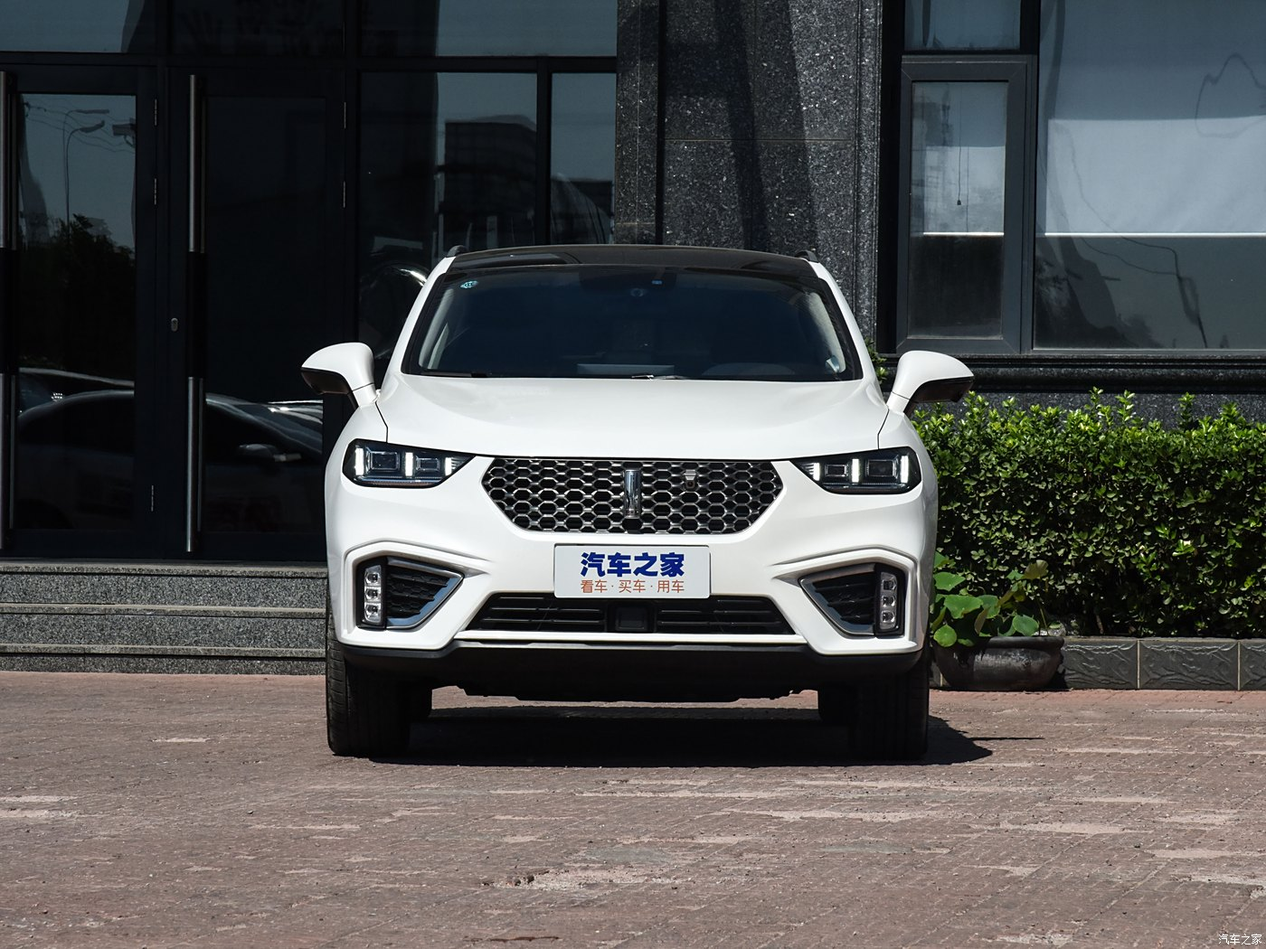WEY: (626, 472, 641, 517)
